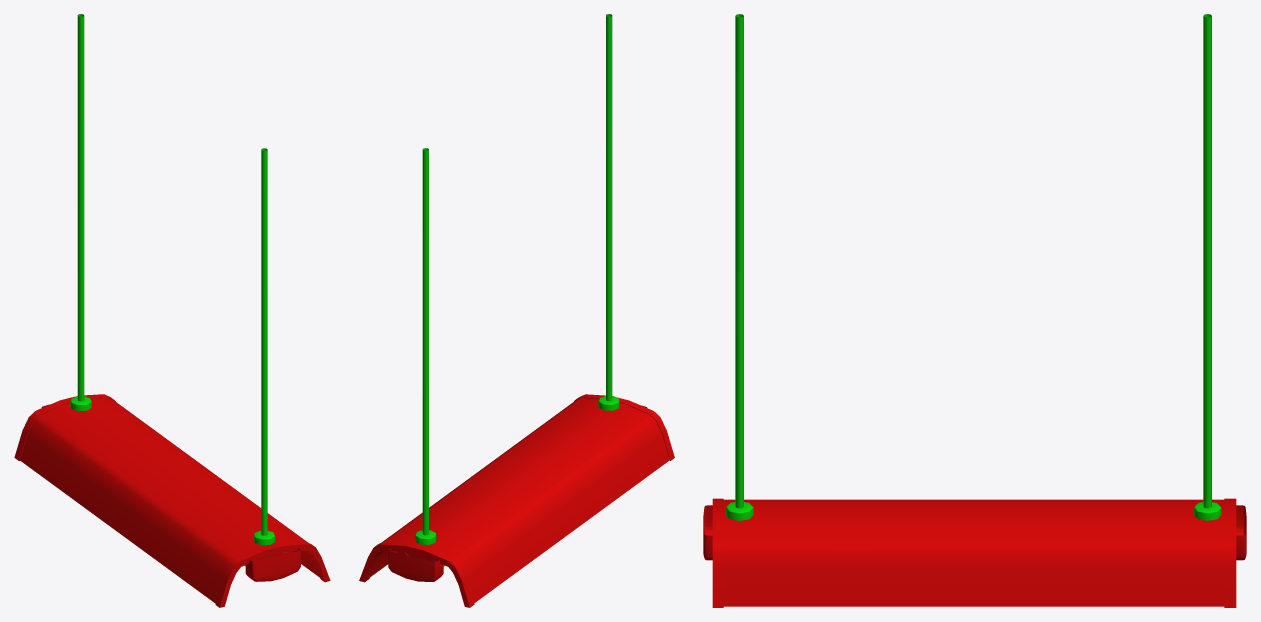
Rendered from CeilingLightEnd.fbx.
3 renders of one model, left to right at view 1: azimuth 30°, elevation 25°; view 2: azimuth 150°, elevation 25°; view 3: azimuth 270°, elevation 25°, orthographic. The views are drawn at different scales.
Visible parts, largest first — view 1: CeilingLightEnd; view 2: CeilingLightEnd; view 3: CeilingLightEnd.
Boxes of the visible parts, bbox=[...] form: CeilingLightEnd: bbox=[14, 14, 330, 607]; CeilingLightEnd: bbox=[359, 14, 674, 607]; CeilingLightEnd: bbox=[703, 14, 1246, 607].
Bounding box in the file's own units: 1.22 × 4.6 × 4.06.
